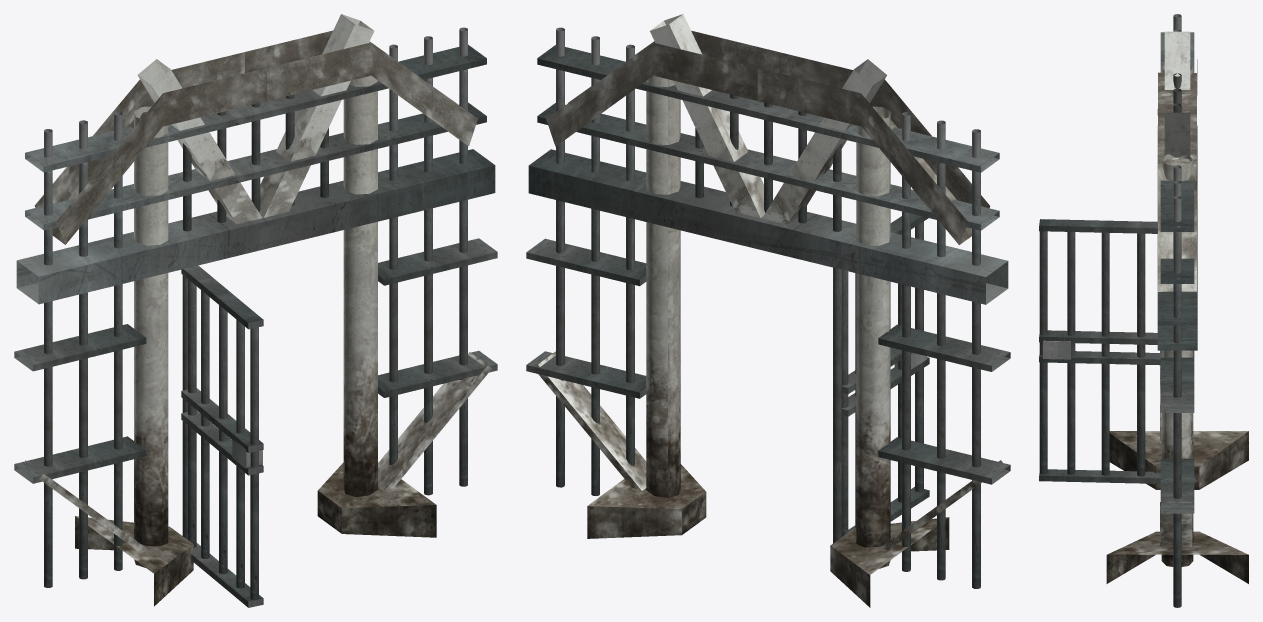
File: Strct_Lvl1_ZoneA_Gate_Small_Open.fbx
3 renders of one model, left to right at view 1: azimuth 30°, elevation 25°; view 2: azimuth 150°, elevation 25°; view 3: azimuth 270°, elevation 25°, orthographic. The views are drawn at different scales.
Parts seen in each view (by area): view 1: polySurface45; view 2: polySurface45; view 3: polySurface45.
Part boxes in pixels (x1,y1,x2,y2): polySurface45: [14, 14, 497, 607]; polySurface45: [526, 14, 1010, 607]; polySurface45: [1039, 14, 1248, 607].
Bounding box in the file's own units: 437 × 451 × 190.
